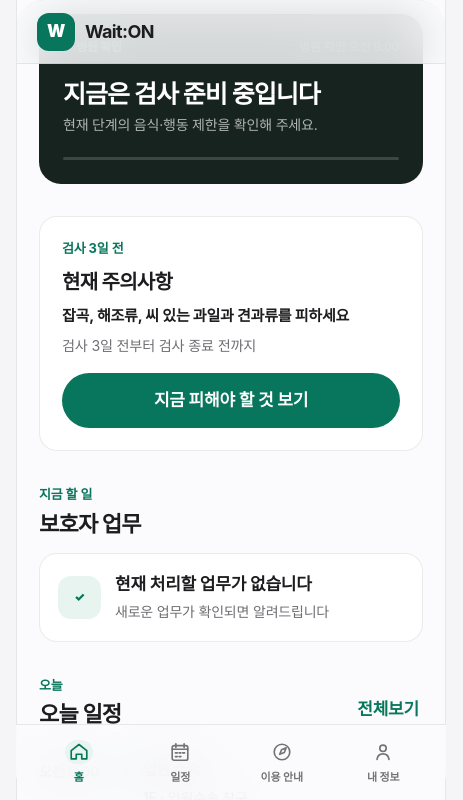
Test case: CaregiverJourneyApp › 대장내시경 여정 홈에서 현재 제한 안내를 연다
The image size is (463, 800).
(page scrolled)
Expected: the heading "현재 주의사항" is shown, [62,270,172,294]
Expected: the text "검사 3일 전" is shown, [62,240,124,256]
Step 1. Click the button "지금 피해야 할 것 보기" → x=231, y=400, box [62,373,400,428]
(page scrolled)
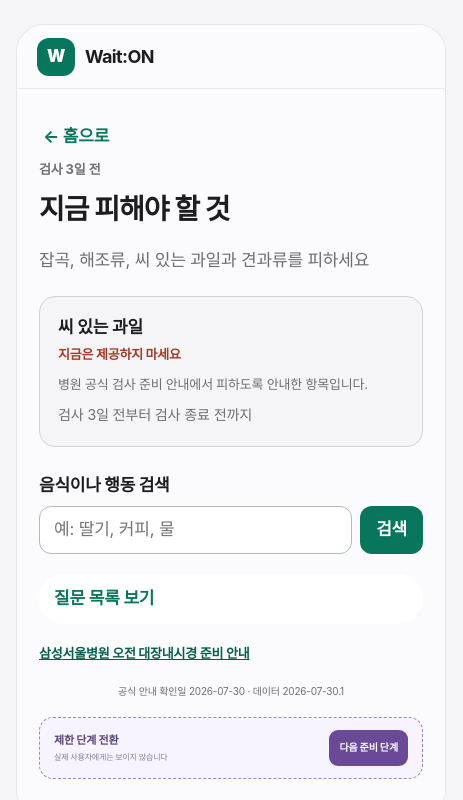
Expected: the heading "지금 피해야 할 것" is shown, [39,192,229,226]
Expected: the text "씨 있는 과일" is shown, [58,317,143,337]
Expected: the link "삼성서울병원 오전 대장내시경 준비 안내" is shown, [39,644,249,664]
